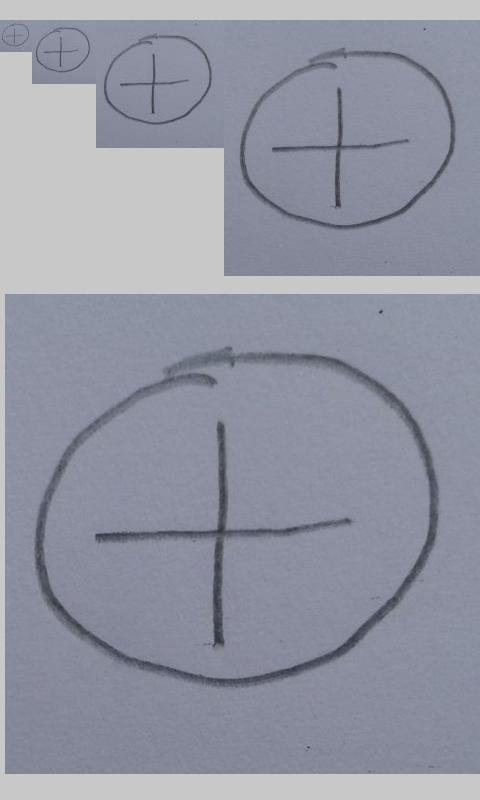button: (30, 345, 441, 689), (239, 47, 456, 229), (103, 33, 214, 125), (35, 27, 91, 73), (1, 23, 30, 47)
